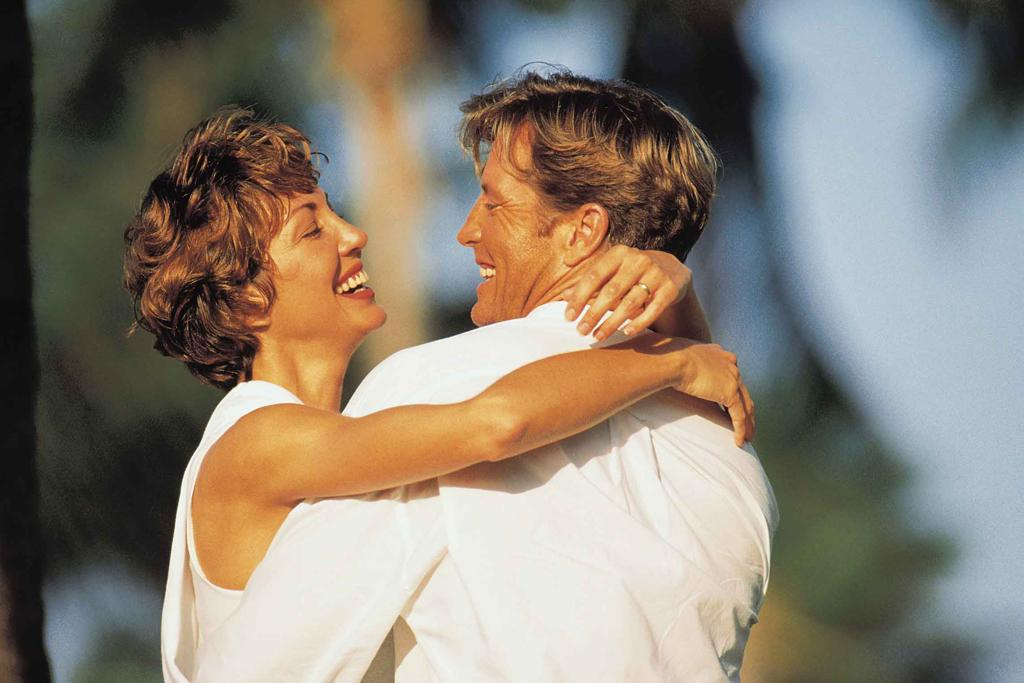face: (238, 162, 386, 332), (460, 112, 568, 326)
